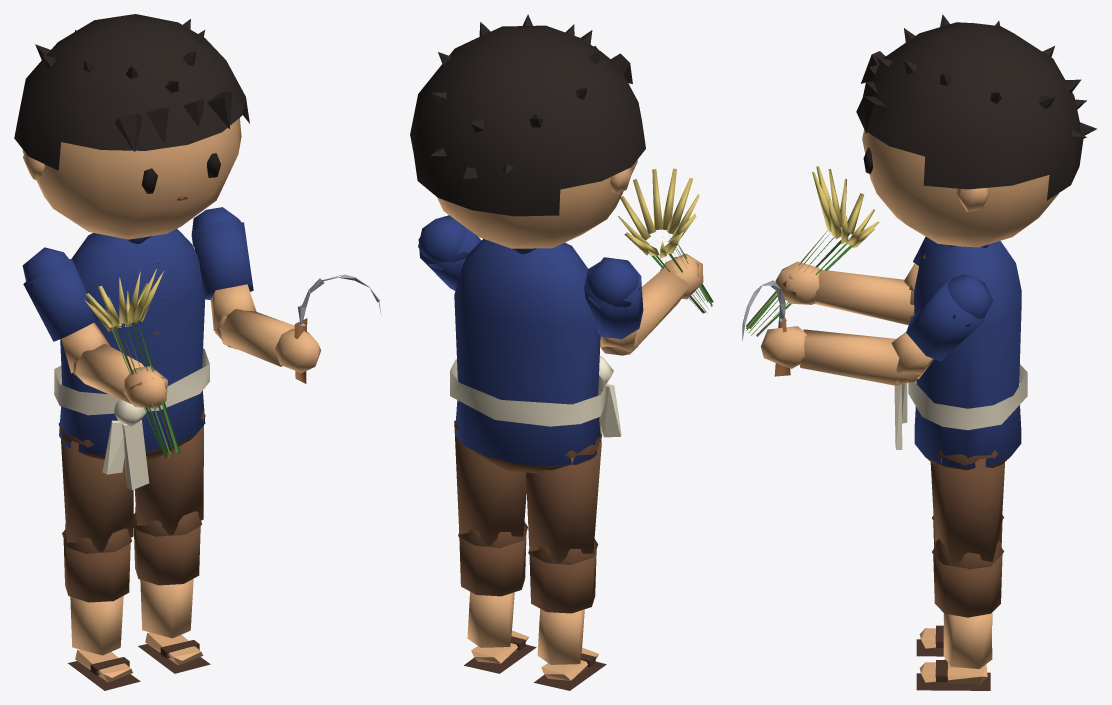
Rendered from central_rice_harvester.glb.
3 renders of one model, left to right at view 1: azimuth 30°, elevation 25°; view 2: azimuth 150°, elevation 25°; view 3: azimuth 270°, elevation 25°, orthographic.
Visible parts, largest first — view 1: head, body, shin_R, shin_L, leg_R, arm_R, arm_L, leg_L, forearm_L, forearm_R, prop_rice_sheaf, prop_sickle; view 2: head, body, shin_R, shin_L, leg_R, leg_L, arm_R, prop_rice_sheaf, forearm_R, arm_L; view 3: head, body, shin_L, leg_L, forearm_L, arm_L, forearm_R, prop_rice_sheaf, shin_R, prop_sickle.
Boxes of the visible parts, x1,y1,x2,y2 form: head: [14, 14, 249, 239]; body: [54, 229, 209, 489]; shin_R: [63, 524, 140, 690]; shin_L: [133, 507, 210, 673]; leg_R: [58, 422, 133, 553]; arm_R: [22, 247, 110, 377]; arm_L: [191, 207, 256, 347]; leg_L: [133, 411, 205, 536]; forearm_L: [217, 309, 321, 372]; forearm_R: [73, 343, 167, 408]; prop_rice_sheaf: [83, 269, 180, 457]; prop_sickle: [294, 274, 381, 383]; head: [410, 14, 645, 248]; body: [450, 238, 621, 473]; shin_R: [529, 546, 606, 690]; shin_L: [459, 522, 536, 673]; leg_R: [526, 433, 601, 564]; leg_L: [454, 420, 527, 547]; arm_R: [584, 257, 643, 355]; prop_rice_sheaf: [618, 168, 713, 313]; forearm_R: [601, 253, 703, 354]; arm_L: [418, 215, 481, 290]; head: [856, 14, 1096, 247]; body: [894, 241, 1027, 470]; shin_L: [916, 539, 1002, 690]; leg_L: [930, 450, 1004, 569]; forearm_L: [760, 326, 920, 386]; arm_L: [891, 274, 993, 383]; forearm_R: [775, 261, 914, 324]; prop_rice_sheaf: [746, 166, 879, 336]; shin_R: [916, 520, 1002, 656]; prop_sickle: [742, 280, 790, 376].
Size of the model in its own units: 0.5956 by 1.47 by 0.7495.
